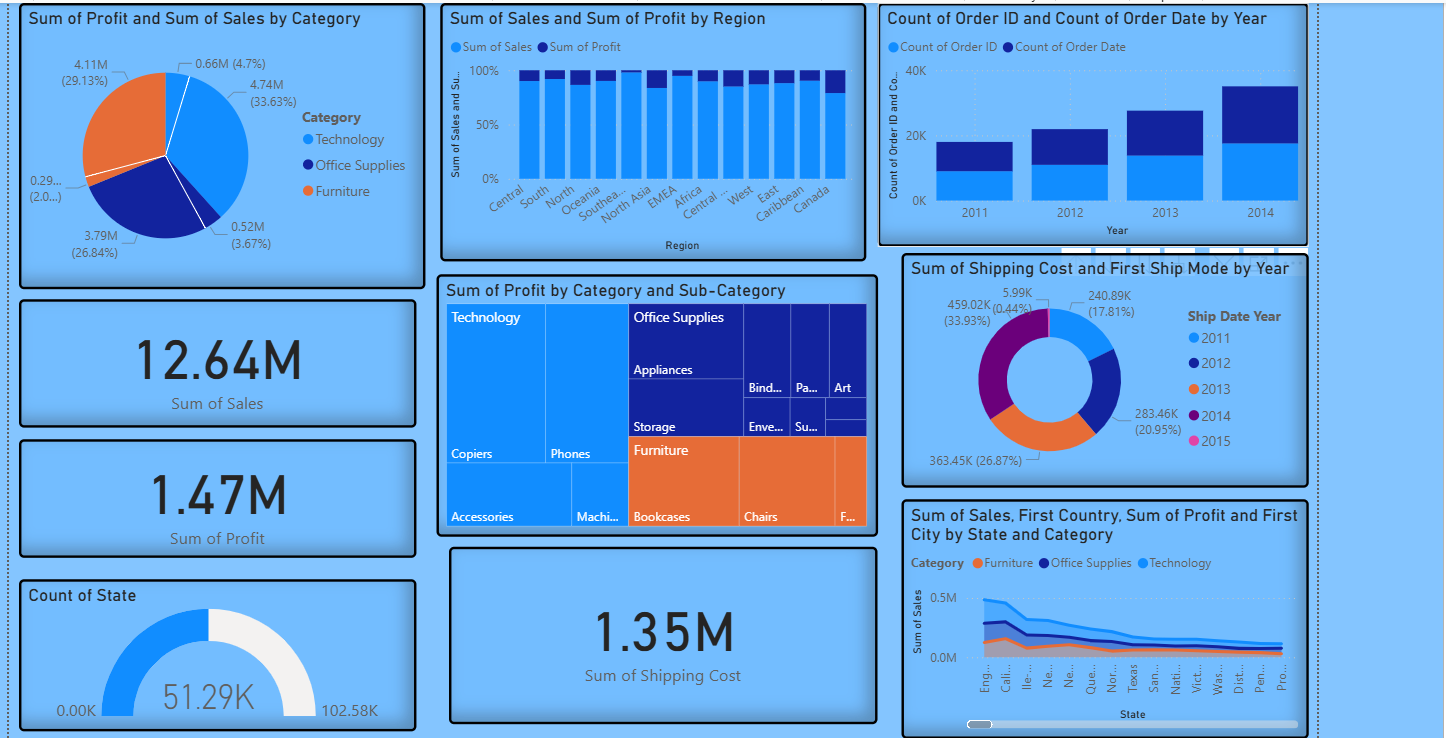

Layout of this report page (visuals, bound fields, positions):
{"tool":"powerbi","page":{"name":"Page 1","canvas":[1280,720],"ordinal":0},"visuals":[{"type":"pieChart","fields":{"Category":["Orders.Category"],"Y":["Sum(Orders.Profit)","Sum(Orders.Sales)"]},"box":[9.8,0,397.4,280],"z":0},{"type":"card","fields":{"Values":["Sum(Orders.Sales)"]},"box":[9.8,289.8,388.9,126],"z":1},{"type":"card","fields":{"Values":["Sum(Orders.Profit)"]},"box":[9.8,426.8,388.9,116.2],"z":2},{"type":"gauge","fields":{"Y":["CountNonNull(Orders.State)"]},"box":[9.8,563.7,388.9,149.2],"z":3},{"type":"hundredPercentStackedColumnChart","fields":{"Category":["Orders.Region"],"Y":["Sum(Orders.Sales)","Sum(Orders.Profit)"]},"box":[421.9,0,417,253.1],"z":4},{"type":"treemap","fields":{"Group":["Orders.Category"],"Details":["Orders.Sub-Category"],"Values":["Sum(Orders.Profit)"]},"box":[418.2,265.4,431.7,256.8],"z":5},{"type":"card","fields":{"Values":["Sum(Orders.Shipping Cost)"]},"box":[430.4,531.9,419.4,173.6],"z":6},{"type":"columnChart","fields":{"Category":["Orders.Order Date.Variation.Date Hierarchy.Year","Orders.Order Date.Variation.Date Hierarchy.Quarter","Orders.Order Date.Variation.Date Hierarchy.Month","Orders.Order Date.Variation.Date Hierarchy.Day"],"Y":["CountNonNull(Orders.Order ID)","CountNonNull(Orders.Order Date)"]},"box":[849.9,0,421.9,238.5],"z":7},{"type":"donutChart","fields":{"Category":["Orders.Ship Date.Variation.Date Hierarchy.Year","Orders.Ship Date.Variation.Date Hierarchy.Quarter","Orders.Ship Date.Variation.Date Hierarchy.Month","Orders.Ship Date.Variation.Date Hierarchy.Day"],"Y":["Sum(Orders.Shipping Cost)"]},"box":[873.1,244.6,398.6,229.9],"z":8},{"type":"stackedAreaChart","fields":{"Category":["Orders.State"],"Series":["Orders.Category"],"Y":["Sum(Orders.Sales)"]},"box":[873.1,485.5,398.6,234.8],"z":9}]}

Visuals, with their boxes in screenshot pixels (x1, y1, x2, y2):
pieChart - Orders.Category x Sum(Orders.Profit): left=21, top=0, right=423, bottom=283
card - Sum(Orders.Sales): left=21, top=293, right=414, bottom=420
card - Sum(Orders.Profit): left=21, top=431, right=414, bottom=549
gauge - CountNonNull(Orders.State): left=21, top=570, right=414, bottom=721
hundredPercentStackedColumnChart - Orders.Region x Sum(Orders.Sales): left=438, top=0, right=859, bottom=256
treemap - Orders.Category x Orders.Sub-Category: left=434, top=268, right=870, bottom=528
card - Sum(Orders.Shipping Cost): left=446, top=538, right=870, bottom=713
columnChart - Orders.Order Date.Variation.Date Hierarchy.Year x Orders.Order Date.Variation.Date Hierarchy.Quarter: left=870, top=0, right=1297, bottom=241
donutChart - Orders.Ship Date.Variation.Date Hierarchy.Year x Orders.Ship Date.Variation.Date Hierarchy.Quarter: left=894, top=247, right=1297, bottom=480
stackedAreaChart - Orders.State x Orders.Category: left=894, top=491, right=1297, bottom=728
